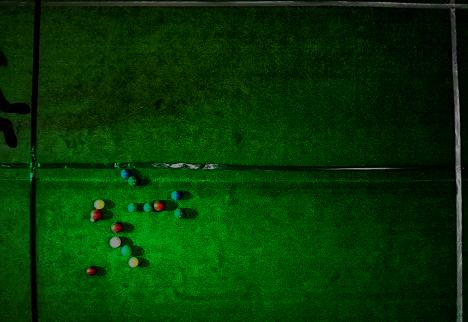blue: (120, 169, 132, 179), (171, 191, 182, 201)
green: (121, 245, 133, 257), (174, 208, 186, 219), (142, 202, 153, 213), (128, 176, 140, 186), (128, 203, 138, 212)
red: (154, 200, 166, 212), (109, 236, 121, 248), (111, 222, 123, 233), (90, 210, 103, 220), (86, 266, 97, 276)
vline: (1, 0, 41, 321), (448, 0, 467, 322)
white: (90, 218, 95, 222)
yellow: (128, 257, 139, 268), (93, 199, 105, 209)
